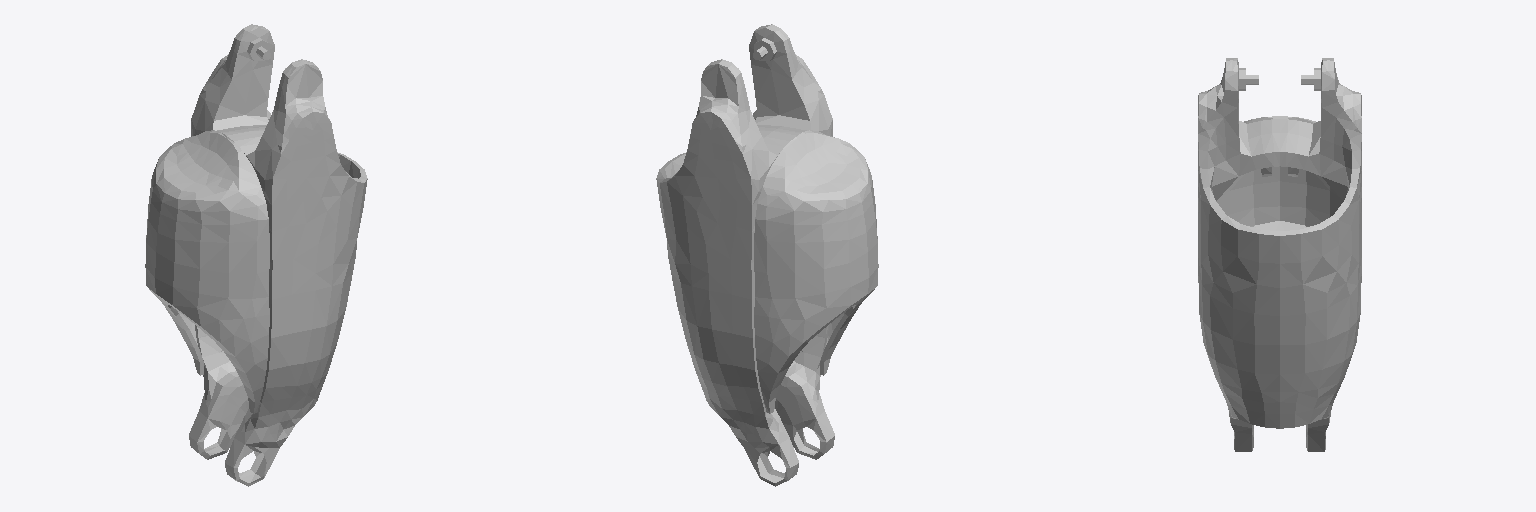
File: l_uleg.obj
3 renders of one model, left to right at view 1: azimuth 30°, elevation 25°; view 2: azimuth 150°, elevation 25°; view 3: azimuth 270°, elevation 25°, orthographic.
Visible parts, largest first — view 1: <dummy_root>; view 2: <dummy_root>; view 3: <dummy_root>.
Boxes of the visible parts, x1,y1,x2,y2 form: <dummy_root>: [145, 24, 367, 486]; <dummy_root>: [656, 24, 878, 486]; <dummy_root>: [1198, 58, 1361, 451].
Bounding box in the file's own units: 0.2107 × 0.4127 × 0.1481.